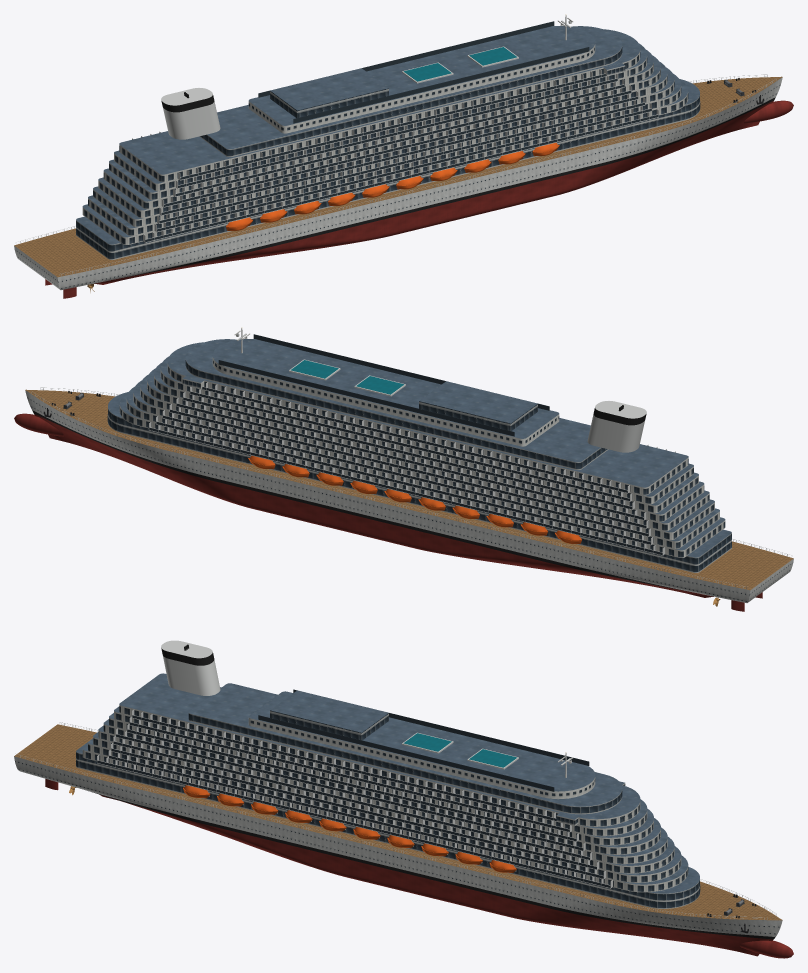
The model's file is cruise_ship_innerscene.glb.
The picture shows the model from 3 angles, top to bottom: view 1: azimuth 30°, elevation 25°; view 2: azimuth 150°, elevation 25°; view 3: azimuth 330°, elevation 25°; orthographic projection.
Visible parts, largest first — view 1: Superstructure, Hull, Balconies, Balcony glass, Pools and sun deck, Wind screens, Lifeboats, Funnel, Deck railings; view 2: Superstructure, Hull, Balconies, Balcony glass, Pools and sun deck, Wind screens, Lifeboats, Funnel, Deck railings; view 3: Superstructure, Hull, Balconies, Balcony glass, Pools and sun deck, Wind screens, Funnel, Lifeboats, Deck railings.
Boxes of the visible parts, x1,y1,x2,y2 form: Superstructure: (76,26,700,259); Hull: (14,76,793,289); Balconies: (132,69,658,242); Balcony glass: (145,74,658,242); Pools and sun deck: (270,46,518,118); Wind screens: (258,21,589,123); Lifeboats: (226,142,559,230); Funnel: (161,88,220,139); Deck railings: (16,74,776,275); Superstructure: (107,339,731,572); Hull: (14,389,793,602); Balconies: (149,382,675,555); Balcony glass: (149,387,662,555); Pools and sun deck: (289,359,537,431); Wind screens: (218,334,549,436); Lifeboats: (248,455,581,543); Funnel: (587,401,646,452); Deck railings: (31,387,791,588); Superstructure: (76,673,700,908); Hull: (14,724,793,958); Balconies: (97,709,612,888); Balcony glass: (97,715,610,887); Pools and sun deck: (270,690,518,769); Wind screens: (258,689,589,791); Funnel: (161,640,220,695); Lifeboats: (183,785,516,873); Deck railings: (17,722,776,919).
Size of the model in its own units: 289 by 62.35 by 33.4.
Materials: 22 (22 with a texture image).
